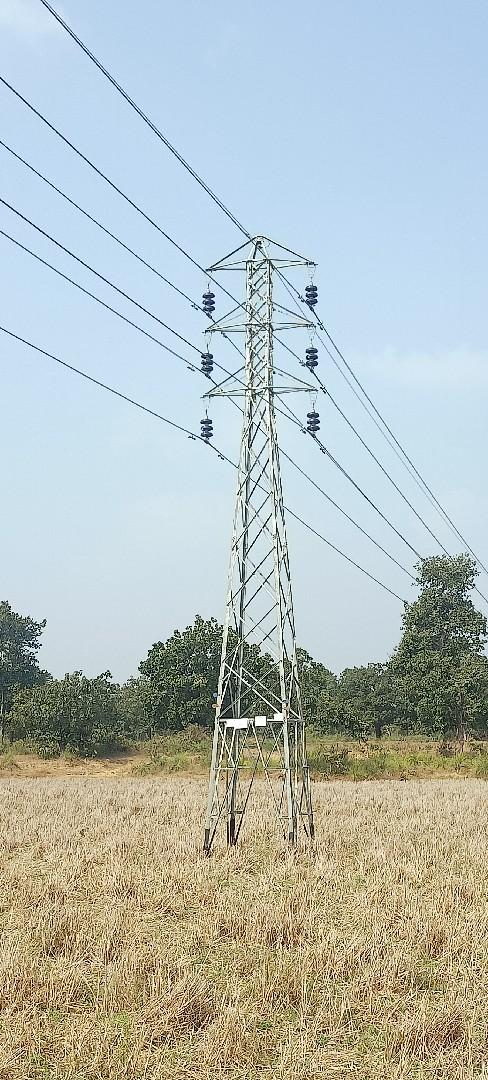GSM Antenna: (191, 232, 325, 813)
